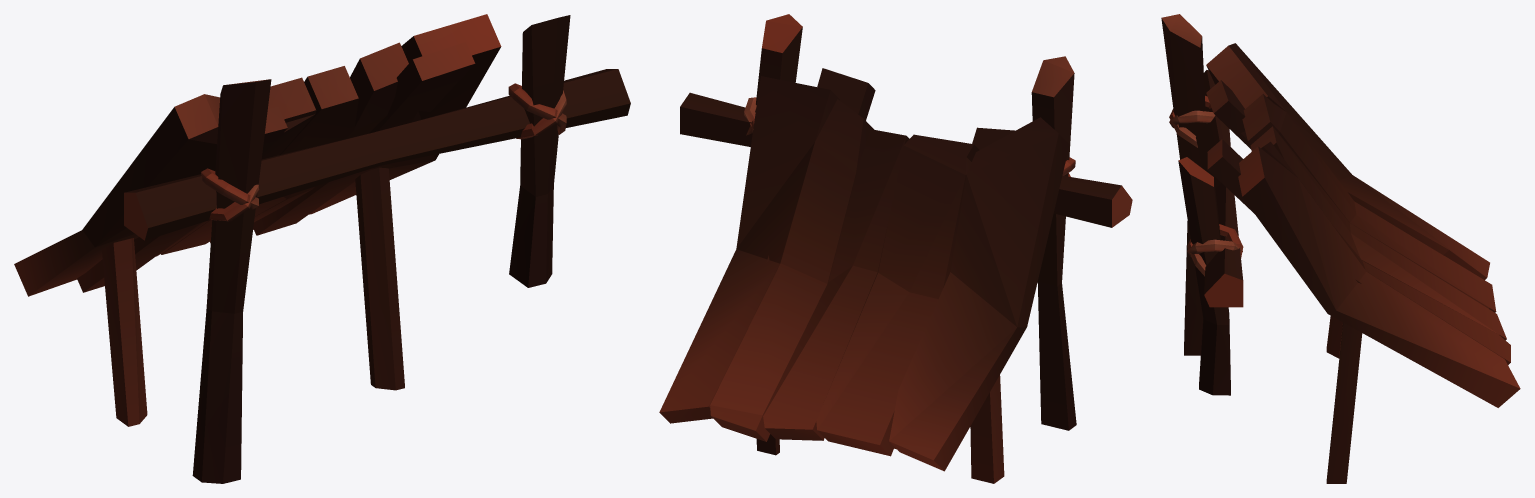
Rendered from Terrain_Decoration_1.fbx.
3 views of the same model, side by side, from view 1: azimuth 30°, elevation 25°; view 2: azimuth 150°, elevation 25°; view 3: azimuth 270°, elevation 25° (orthographic). The views are drawn at different scales.
Visible parts, largest first — view 1: terrain_building_225_LOD0; view 2: terrain_building_225_LOD0; view 3: terrain_building_225_LOD0.
Boxes of the visible parts, x1,y1,x2,y2 form: terrain_building_225_LOD0: (14, 14, 630, 483); terrain_building_225_LOD0: (659, 14, 1132, 483); terrain_building_225_LOD0: (1161, 14, 1520, 483).
Bounding box in the file's own units: 651 × 554 × 494.
1 material, 1 textured.
